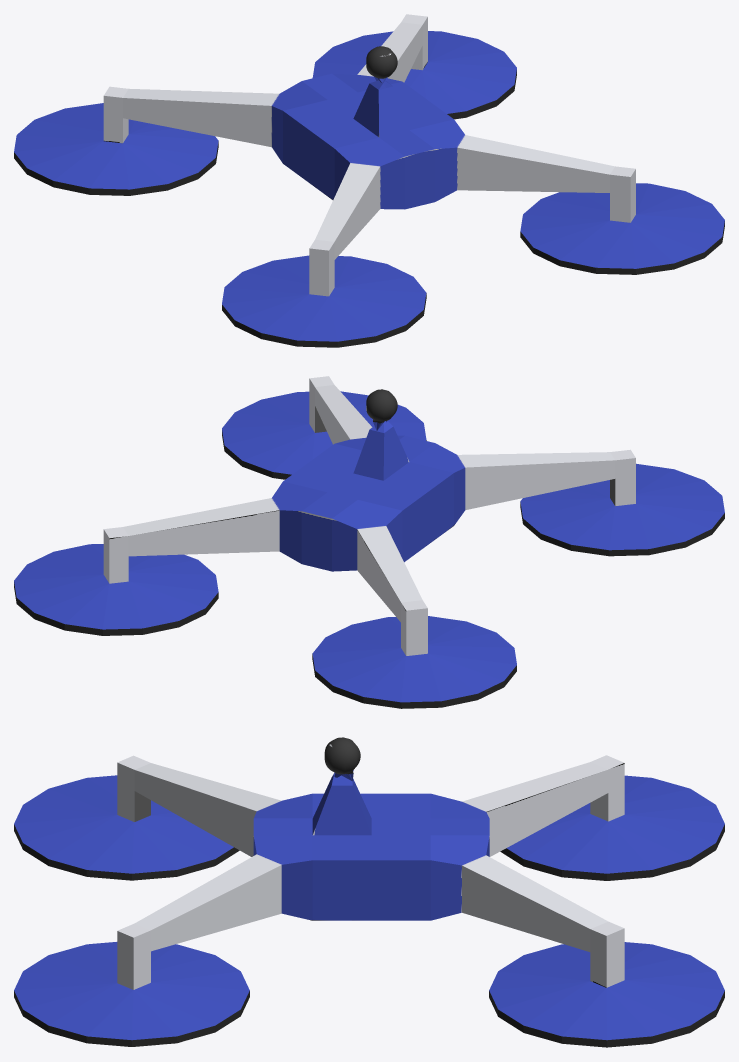
The model's file is robo_3.fbx.
3 views of the same model, one above another, from view 1: azimuth 30°, elevation 25°; view 2: azimuth 150°, elevation 25°; view 3: azimuth 270°, elevation 25° (orthographic). The views are drawn at different scales.
Visible parts, largest first — view 1: 立方体; view 2: 立方体; view 3: 立方体.
Boxes of the visible parts, box(x1,y1,x2,y2) form: 立方体: box(14, 14, 724, 347); 立方体: box(14, 376, 724, 708); 立方体: box(14, 737, 724, 1047).
Bounding box in the file's own units: 267 × 82.07 × 301.
Materials: 1 (1 with a texture image).
